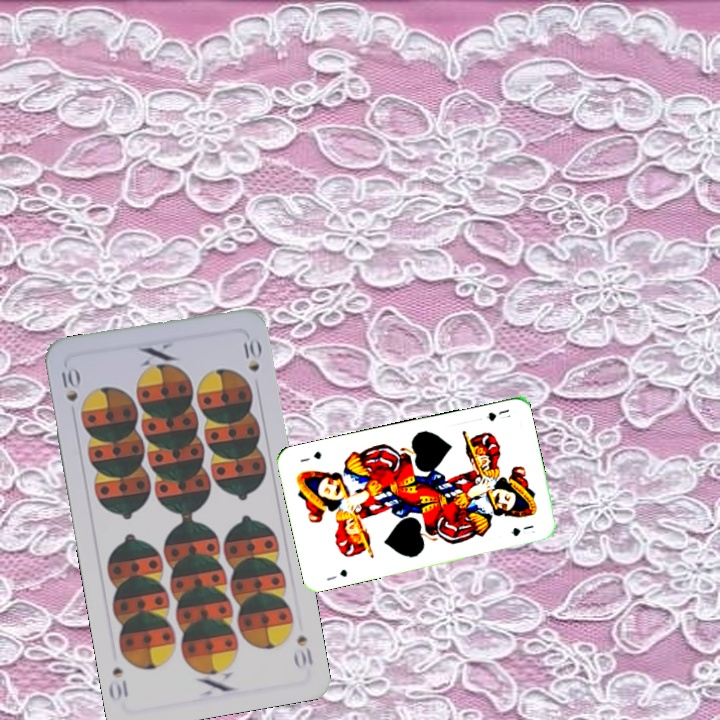GU: (483, 405, 513, 424), (323, 565, 350, 583)
S10: (57, 362, 82, 404), (291, 631, 316, 672)
